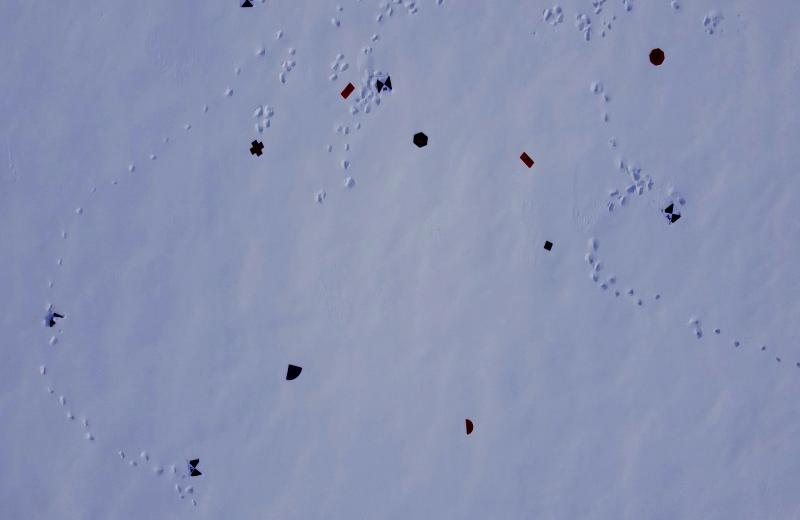Cross: (248, 138, 266, 158)
Hexagon: (411, 130, 429, 148)
Octagon: (648, 46, 666, 67)
Quarter Circle: (283, 363, 304, 383)
Rectangle: (339, 80, 357, 102), (519, 150, 534, 170)
Semi Circle: (464, 418, 476, 438)
Square: (543, 238, 555, 254)
